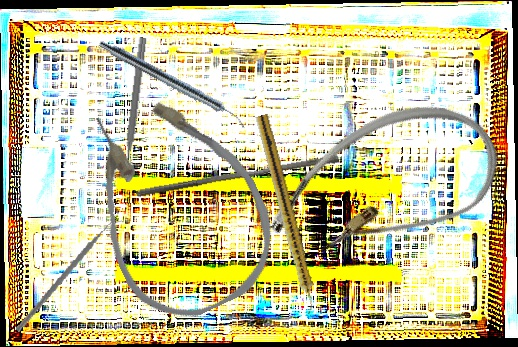Cannula: (58, 69, 296, 337), (251, 72, 517, 305)
Chopper: (15, 206, 125, 346)
Fixation Ring: (109, 35, 152, 183)
Handpiece: (95, 37, 251, 130), (251, 113, 321, 316)
Pusher: (134, 147, 341, 206)
